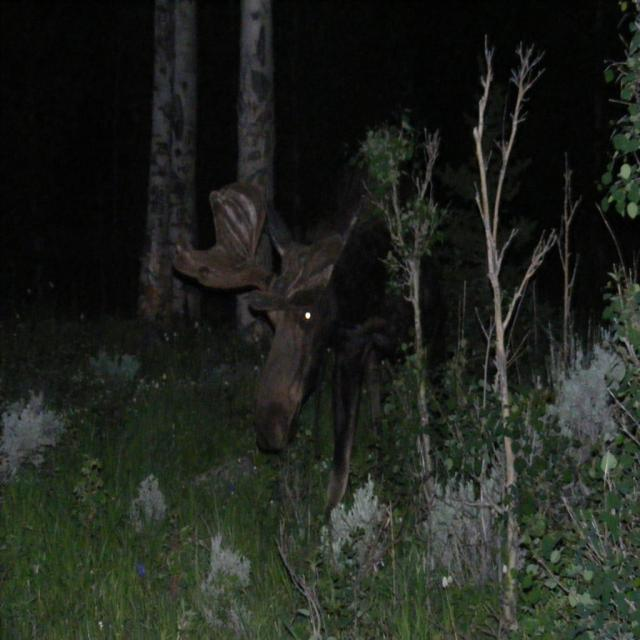Deer: (172, 184, 440, 544)
